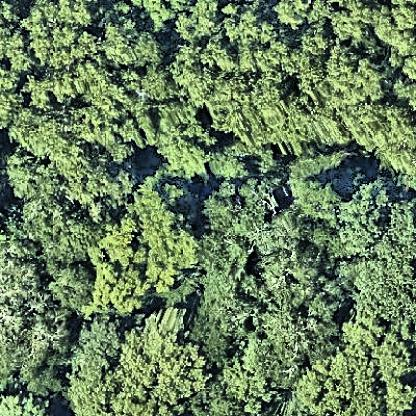tree-top: (56, 310, 213, 416), (95, 181, 205, 310), (179, 29, 300, 138), (251, 251, 343, 377), (204, 136, 292, 237), (295, 338, 410, 414), (2, 275, 66, 390), (338, 237, 416, 326), (77, 72, 160, 154), (200, 219, 254, 342), (46, 148, 138, 214), (319, 0, 416, 61), (44, 212, 106, 304), (21, 0, 96, 70), (310, 47, 387, 113), (341, 93, 416, 160), (279, 147, 350, 214), (98, 12, 165, 72), (216, 353, 278, 416), (5, 107, 76, 158), (337, 183, 383, 243), (156, 140, 215, 184), (174, 1, 232, 44), (371, 334, 414, 392), (2, 149, 48, 200), (0, 52, 22, 132), (269, 0, 323, 28), (0, 389, 53, 416), (386, 374, 416, 414)
